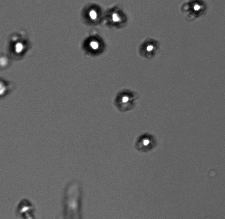Living Cell: (82, 33, 106, 54), (81, 3, 103, 24), (114, 87, 135, 108), (8, 36, 28, 58), (105, 6, 126, 26), (139, 38, 161, 56), (135, 132, 155, 150), (186, 1, 206, 16), (1, 76, 11, 99)
